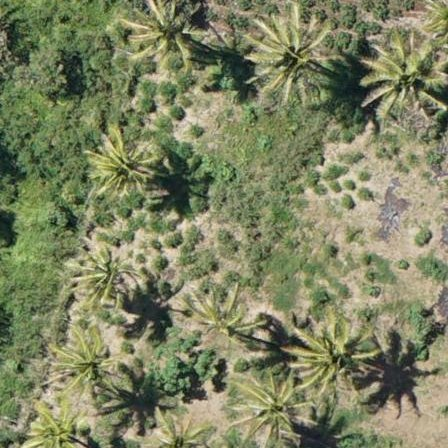palm_tree: (246, 5, 335, 97), (363, 24, 448, 118), (46, 323, 120, 402), (231, 376, 306, 445), (82, 125, 152, 198), (68, 243, 139, 311), (298, 319, 365, 390), (130, 1, 197, 67), (181, 286, 254, 343), (25, 407, 93, 448)
